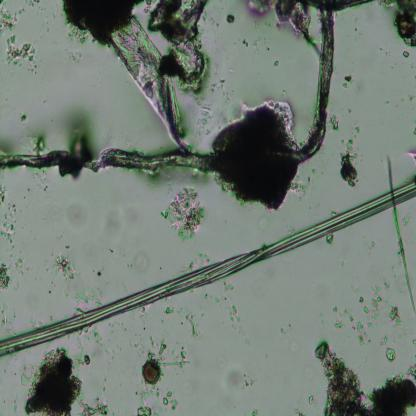Anthropogenic: (0, 180, 416, 357)
Background material: (215, 99, 302, 210), (313, 341, 416, 415), (147, 0, 210, 85), (330, 282, 402, 346), (18, 346, 84, 415), (247, 0, 319, 54), (62, 0, 133, 46), (390, 204, 416, 314), (168, 181, 204, 240), (382, 0, 416, 49), (336, 125, 362, 184), (0, 0, 41, 34), (6, 35, 39, 74), (222, 363, 258, 397), (217, 283, 242, 331), (69, 284, 104, 312), (158, 342, 190, 368), (0, 200, 18, 245), (53, 252, 77, 281), (197, 102, 212, 137), (184, 313, 200, 340), (160, 388, 178, 412), (90, 326, 110, 346), (131, 250, 150, 271), (0, 259, 12, 291), (82, 401, 109, 415), (210, 77, 228, 95), (383, 343, 396, 362), (295, 398, 308, 416), (307, 396, 320, 410), (341, 74, 354, 88), (17, 110, 29, 124), (407, 148, 416, 166), (165, 305, 178, 317), (137, 405, 152, 415), (369, 236, 378, 252), (225, 12, 236, 25), (280, 324, 290, 337), (324, 233, 334, 245), (250, 404, 258, 416), (402, 49, 410, 59), (407, 93, 416, 101), (273, 60, 281, 68), (94, 271, 102, 278)
Cellulose filter fibre: (114, 17, 188, 158), (0, 144, 216, 178), (294, 1, 338, 163)
Diatom: (142, 359, 160, 384)
